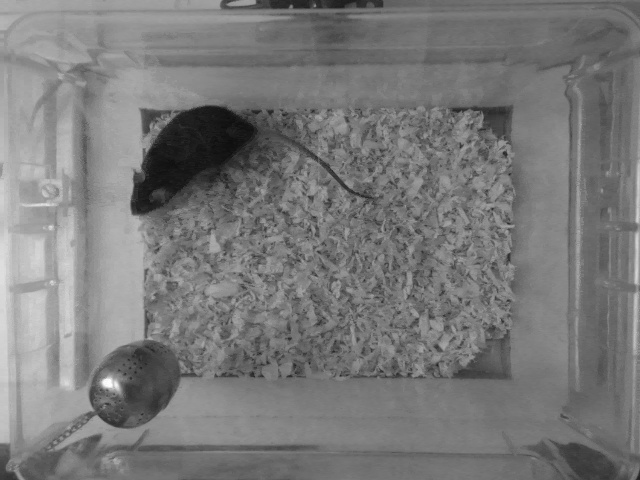mice: (126, 103, 378, 217)
